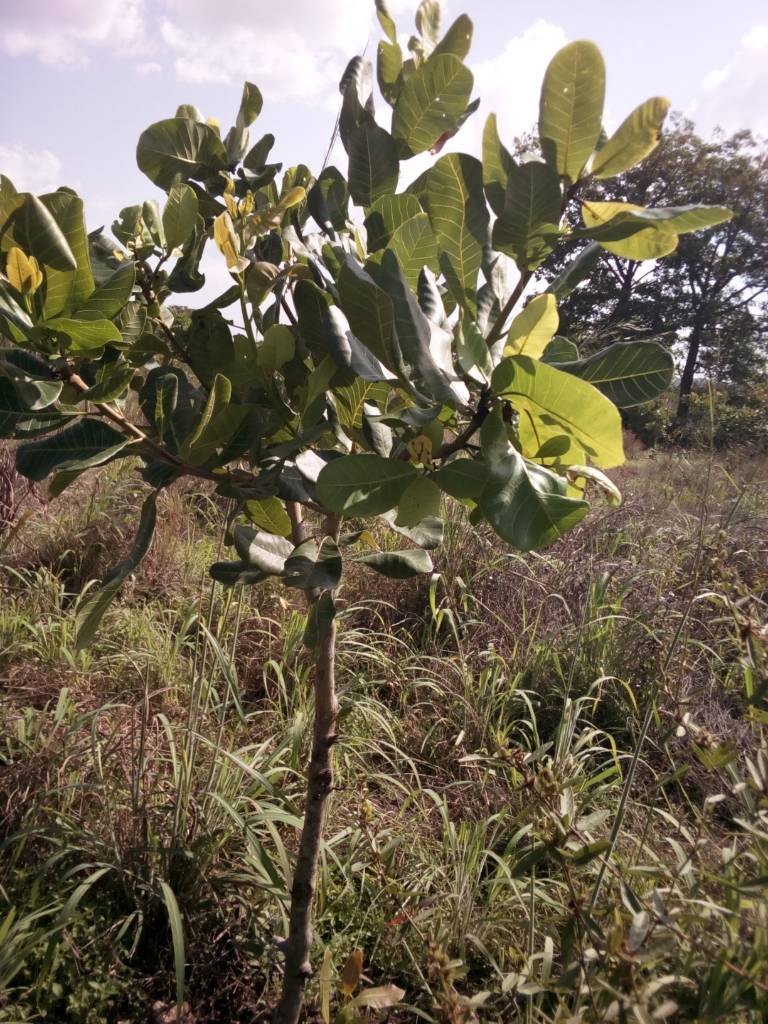Anoplonemis curvipes: (283, 539, 340, 591)
